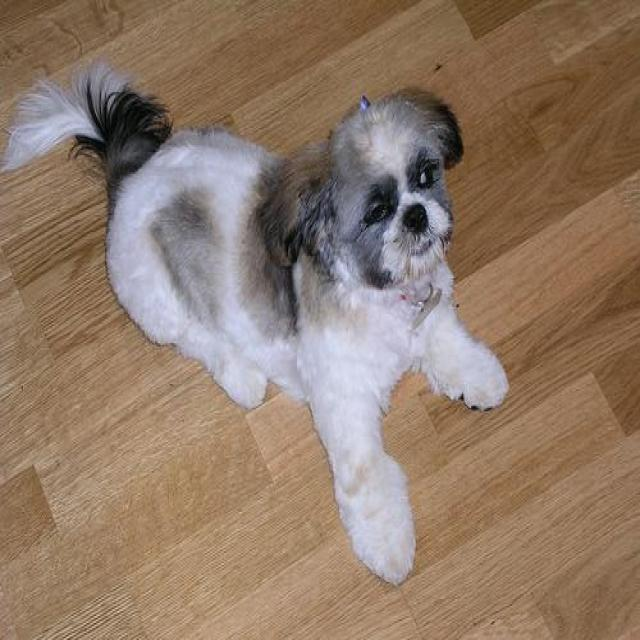shih_tzu: (0, 60, 508, 585)
